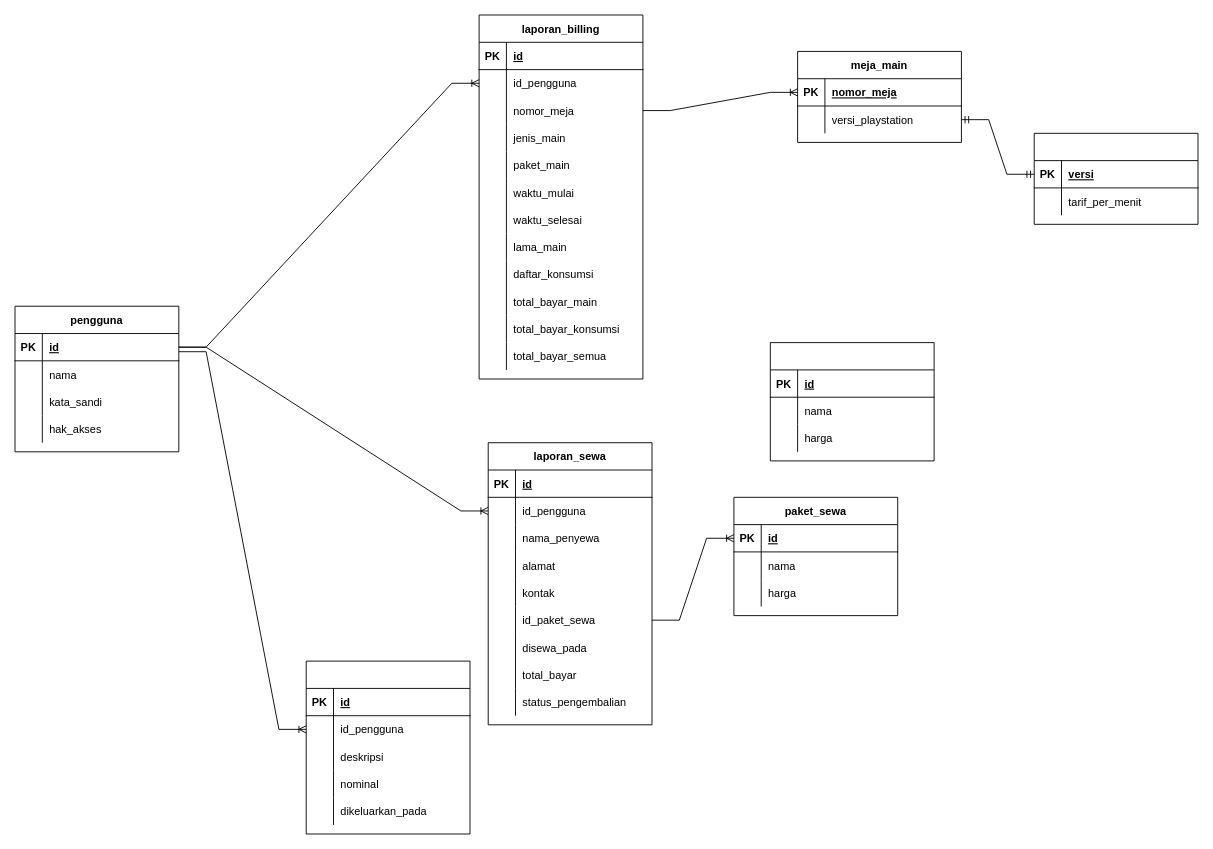
This 1213x849 diagram has some shape labels left out. Here are the shapes that lost their labels. From the top down, the box of each, then its label:
(1033, 132, 1198, 224): playstations
(769, 342, 934, 461): konsumsi
(305, 660, 470, 834): pengeluaran
